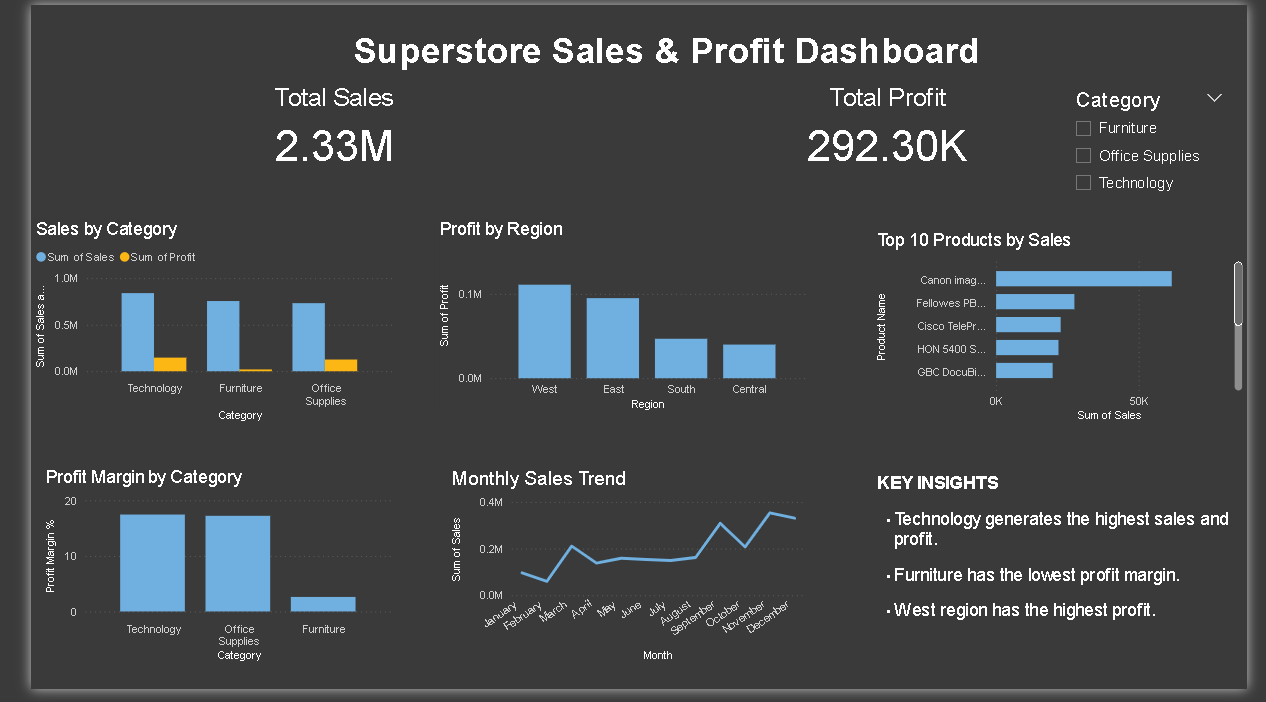

Layout of this report page (visuals, bound fields, positions):
{"tool":"powerbi","page":{"name":"Page 1","canvas":[1280,720],"ordinal":0},"visuals":[{"type":"card","title":"Total Sales","fields":{"Values":["Sum(Sample Superstore.Sales)"]},"box":[160,81.3,317.3,97.3],"z":0},{"type":"card","title":"Total Profit","fields":{"Values":["Sum(Sample Superstore.Profit)"]},"box":[742.7,81.3,320,97.3],"z":1000},{"type":"clusteredColumnChart","title":"Sales by Category","fields":{"Category":["Sample Superstore.Category"],"Y":["Sum(Sample Superstore.Sales)","Sum(Sample Superstore.Profit)"]},"box":[0,225,388.3,218.3],"z":2000},{"type":"lineChart","title":"Monthly Sales Trend","fields":{"Category":["Sample Superstore.Order Date.Variation.Date Hierarchy.Month"],"Y":["Sum(Sample Superstore.Sales)"]},"box":[438.7,486.7,381.3,209.3],"z":3000},{"type":"clusteredColumnChart","title":"Profit by Region","fields":{"Y":["Sum(Sample Superstore.Profit)"],"Category":["Sample Superstore.Region"]},"box":[425,225,395,206.7],"z":4000},{"type":"clusteredColumnChart","title":"Profit Margin by Category","fields":{"Category":["Sample Superstore.Category"],"Y":["Sample Superstore.Profit Margin %"]},"box":[10.7,486.7,376,209.3],"z":5000},{"type":"clusteredBarChart","title":"Top 10 Products by Sales","fields":{"Category":["Sample Superstore.Product Name"],"Y":["Sum(Sample Superstore.Sales)"]},"box":[885.3,237.3,394.7,206.7],"z":6000},{"type":"textbox","box":[58.9,19.6,1220.9,61.4],"z":7000},{"type":"slicer","fields":{"Values":["Sample Superstore.Category"]},"box":[1086.7,81.3,180,125.3],"z":8000},{"type":"textbox","box":[885.3,486.7,381.3,209.3],"z":9000}]}

Visuals, with their boxes in screenshot pixels (x1, y1, x2, y2), scaled from the page's 1280x720 canvas onto the 1266x702 screenshot:
"Total Sales" card: (158,79,472,174)
"Total Profit" card: (735,79,1051,174)
"Sales by Category" clusteredColumnChart: (0,219,384,432)
"Monthly Sales Trend" lineChart: (434,475,811,679)
"Profit by Region" clusteredColumnChart: (420,219,811,421)
"Profit Margin by Category" clusteredColumnChart: (11,475,382,679)
"Top 10 Products by Sales" clusteredBarChart: (876,231,1265,433)
textbox: (58,19,1265,79)
slicer - Sample Superstore.Category: (1075,79,1253,201)
textbox: (876,475,1253,679)
